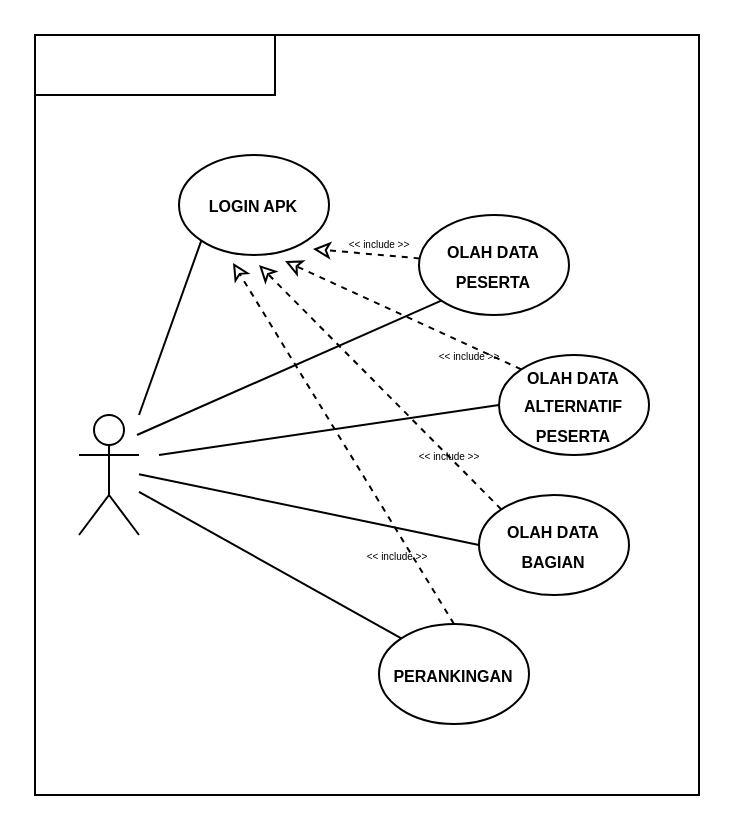
The diagram is 734 pixels wide and 830 high, and some of its shapes have lost their labels. The shapes that lost their labels are listed below. From the top down, each one's centre as x and y in pixels, then its label:
At point (154, 64): "USE CASE DIAGRAM".
At point (108, 474): "Actor".
